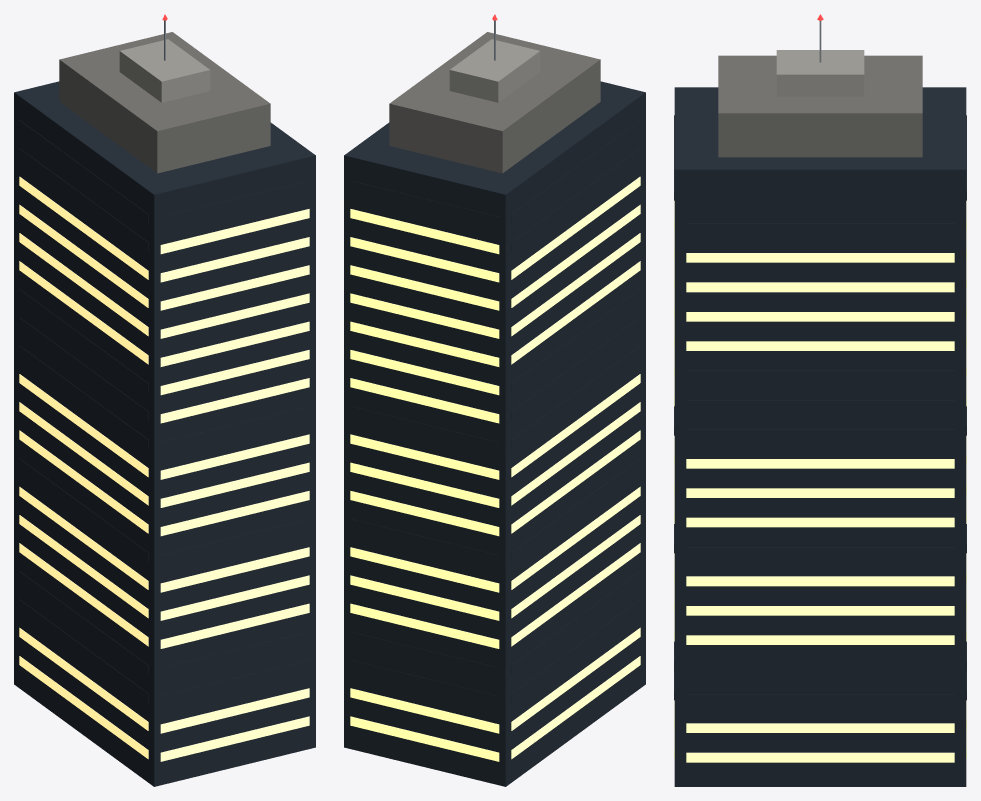
File: skyskrapa_2.glb
3 views of the same model, side by side, from view 1: azimuth 30°, elevation 25°; view 2: azimuth 150°, elevation 25°; view 3: azimuth 270°, elevation 25° (orthographic). The views are drawn at different scales.
Visible parts, largest first — view 1: skyskrapa_2; view 2: skyskrapa_2; view 3: skyskrapa_2.
Part boxes in pixels (bbox=[...]): skyskrapa_2: bbox=[14, 14, 315, 786]; skyskrapa_2: bbox=[344, 14, 645, 786]; skyskrapa_2: bbox=[674, 14, 966, 786].
Size of the model in its own units: 24.1 by 99.58 by 36.1.
